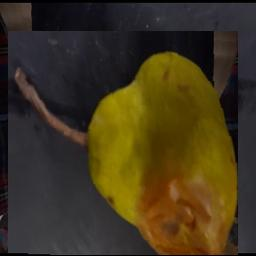Pear Rotten: (8, 31, 238, 255)
